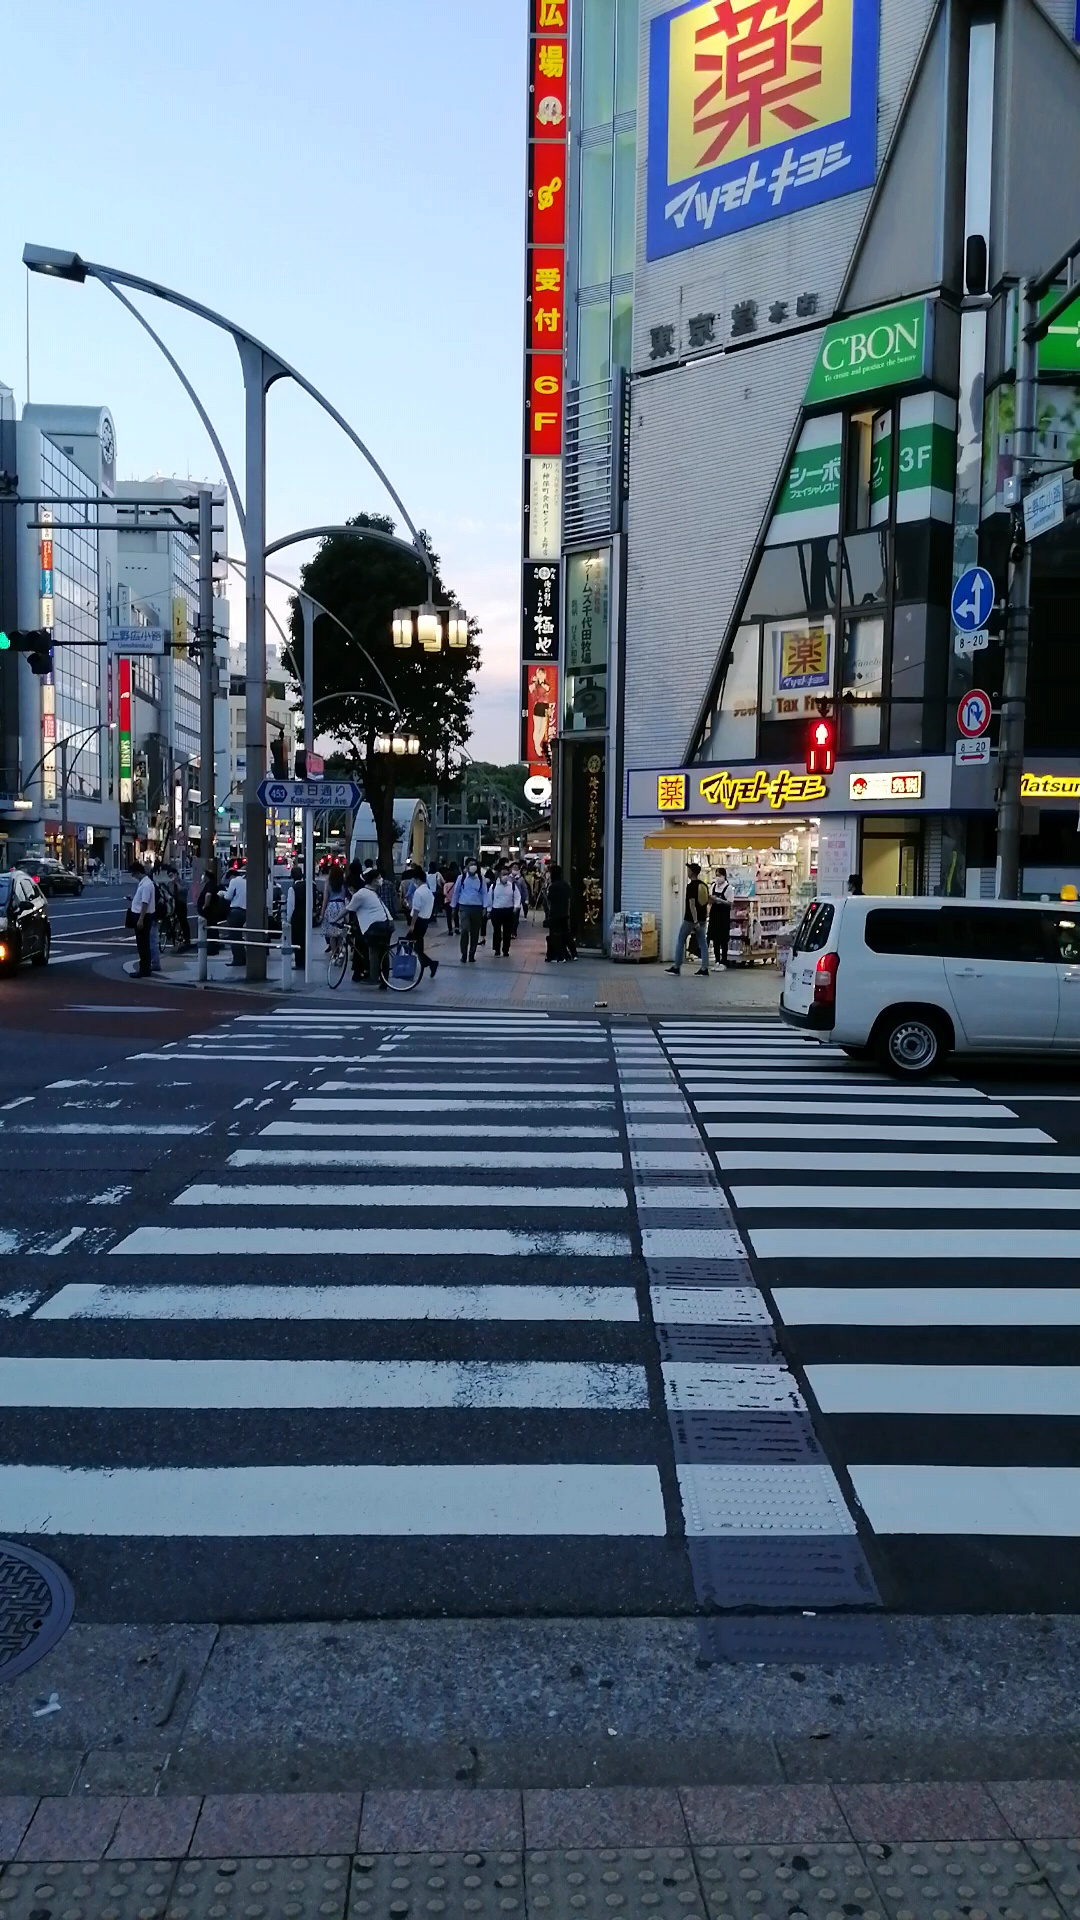red: (806, 717, 835, 775)
